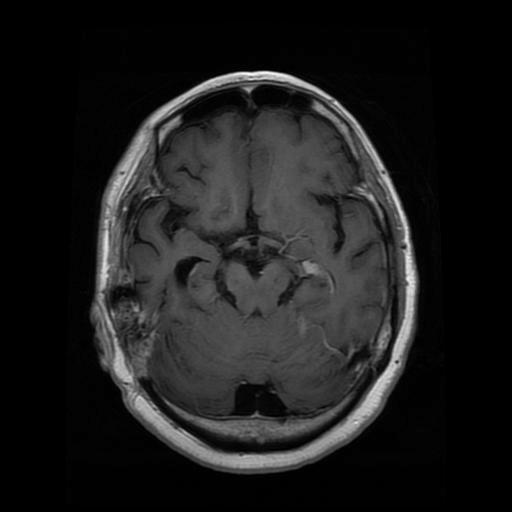Tumour-Glioma: (110, 273, 176, 385)
